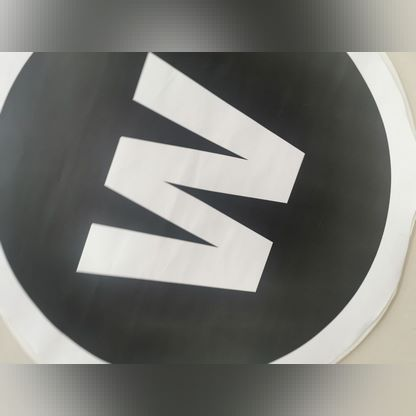W: (47, 47, 319, 328)
